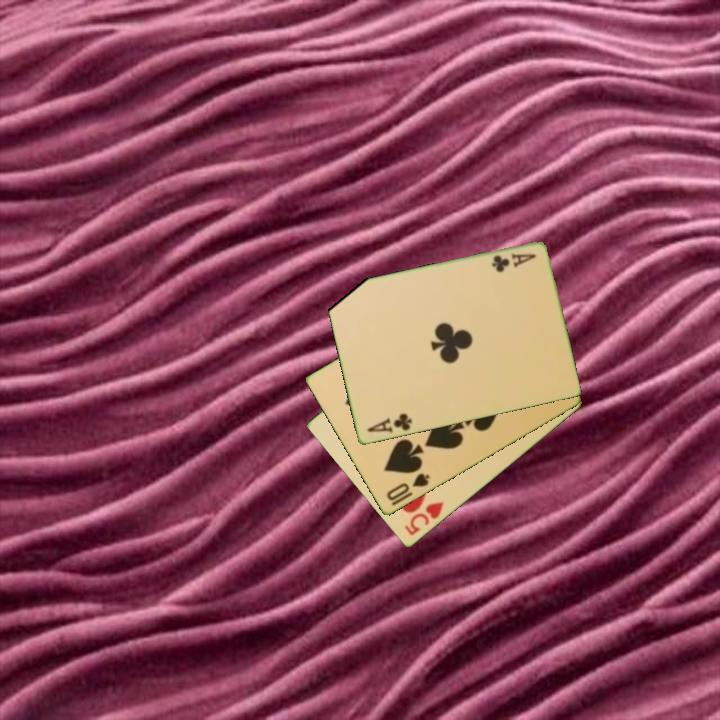10s: (383, 470, 433, 504)
5h: (401, 498, 447, 539)
Ac: (363, 410, 415, 436), (488, 250, 539, 276)
